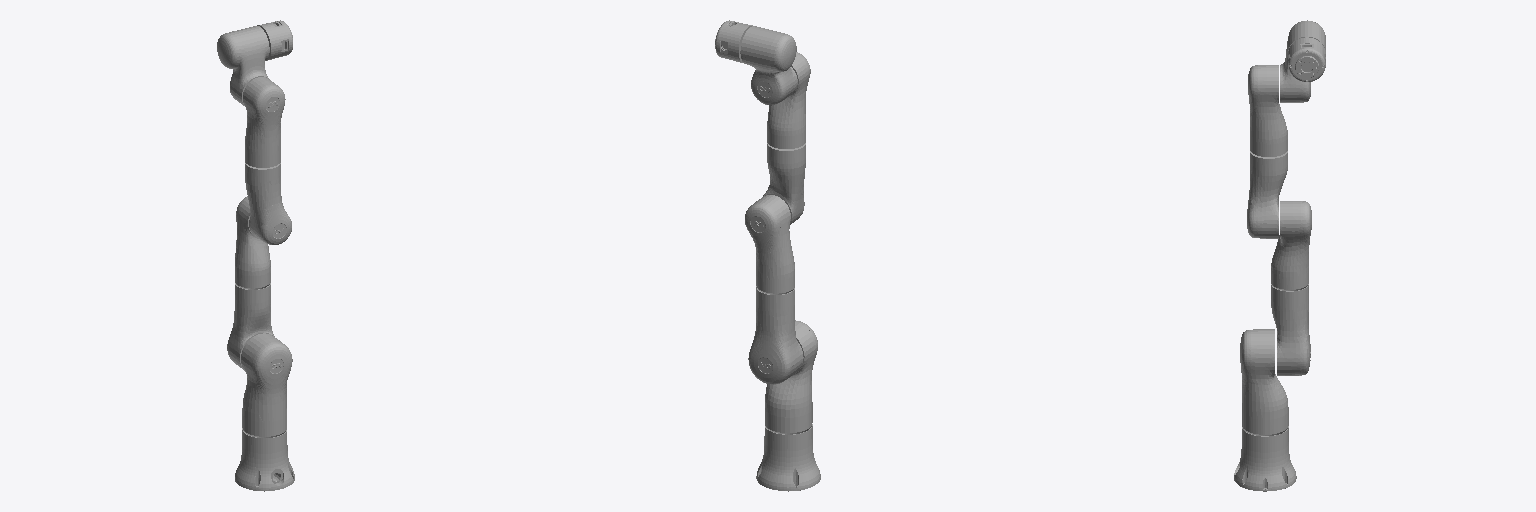
The robot description file, URDF, robot "right_robot":
<robot name="right_robot">

  <!-- material definition-->
  
  <material name = "robot_grey">
    <color rgba="0.7 0.7 0.7 1" />
  </material>

  <material name="gripper_black">
    <color rgba="0.1 0.1 0.1 1"/>
  </material>      
  
  <material name="gripper_white">
    <color rgba="0.9 0.9 0.9 1"/>
  </material>

  <material name="gripper_grey">
    <color rgba="0.792156862745098 0.819607843137255 0.933333333333333 1"/>
  </material>

  <!-- joints of right arm -->

  <joint name="joint1" type="revolute">
    <parent link="base_link"/>
    <child link="link1"/>
    <origin rpy="0 3.141592653589793 0" xyz="0 0 0.155"/>
    <axis xyz="0 0 1"/>
    <limit effort="123" lower="-2.7925" upper="2.7925" velocity="2.0944"/>
  </joint>

  <joint name="joint2" type="revolute">
    <parent link="link1"/>
    <child link="link2"/>
    <origin rpy="0 0 3.141592653589793" xyz="0.0 0.03 -0.210"/>
    <axis xyz="0 1 0"/>
    <limit effort="123" lower="-2.2689" upper="2.2689" velocity="2.0944"/>
  </joint>

  <joint name="joint3" type="revolute">
    <parent link="link2"/>
    <child link="link3"/>
    <origin rpy="0 0 3.141592653589793" xyz="0.0 -0.035 -0.205"/>
    <axis xyz="0 0 1"/>
    <limit effort="64" lower="-2.9671" upper="2.9671" velocity="2.4435"/>
  </joint>

  <joint name="joint4" type="revolute">
    <parent link="link3"/>
    <child link="link4"/>
    <origin rpy="0 0 0" xyz="-0.02 -0.03 -0.19"/>
    <axis xyz="0 1 0"/>
    <limit effort="64" lower="-1.8675" upper="2.6878" velocity="2.4435"/>
  </joint>

  <joint name="joint5" type="revolute">
    <parent link="link4"/>
    <child link="link5"/>
    <origin rpy="0 0 0" xyz="0.02 -0.025 -0.195"/>
    <axis xyz="0 0 1"/>
    <limit effort="39" lower="-2.9671" upper="2.9671" velocity="4.8869"/>
  </joint>

  <joint name="joint6" type="revolute">
    <parent link="link5"/>
    <child link="link6"/>
    <origin rpy="0 0 3.141592653589793" xyz="0.0 0.03 -0.19"/>
    <axis xyz="0 1 0"/>
    <limit effort="39" lower="-1.3963" upper="4.5379" velocity="4.8869"/>
  </joint>

  <joint name="joint7" type="revolute">
    <parent link="link6"/>
    <child link="link7"/>
    <origin rpy="0 -1.5707963267948966 0" xyz="0.055 -0.070 -0.11"/>
    <axis xyz="0 0 1"/>
    <limit effort="39" lower="-2.9671" upper="2.9671" velocity="4.8869"/>
  </joint>

  <joint name="link7_to_flange" type="fixed">
    <parent link="link7"/>
    <child link="flange"/>
    <origin rpy="3.141592653589793 0 0" xyz="0.0 0.0 -0.081"/>
  </joint>

  <!-- links of right arm -->

  <link name="base_link">
    <inertial>
      <mass value="3.653"/>
      <origin rpy="0 0 0" xyz="0.0002 0.0006 0.0874"/>
      <inertia ixx="0.0194" ixy="0.0000" ixz="0.0000" iyy="0.0196" iyz="-0.0001" izz="0.0088"/>
    </inertial>
    <visual>
      <origin rpy="0 0 3.141592653589793" xyz="0 0 0"/>
      <geometry>
        <mesh filename="meshes/flexiv_arm/visual/link0.obj"/>
      </geometry>
      <material name="robot_grey" />
    </visual>
    <collision>
      <origin rpy="0 0 3.141592653589793" xyz="0 0 0"/>
      <geometry>
        <mesh filename="meshes/flexiv_arm/collision/link0.stl"/>
      </geometry>
    </collision>
  </link>

  <link name="link1">
    <inertial>
      <mass value="3.673"/>
      <origin rpy="0 0 0" xyz="0.0000 0.0060 -0.1489"/>
      <inertia ixx="0.0276" ixy="0.0000" ixz="0.0000" iyy="0.0272" iyz="-0.0017" izz="0.0077"/>
    </inertial>
    <visual>
      <origin rpy="0 3.141592653589793 0" xyz="0 0 0"/>
      <geometry>
        <mesh filename="meshes/flexiv_arm/visual/link1.obj"/>
      </geometry>
      <material name="robot_grey" />
    </visual>
    <collision>
      <origin rpy="0 3.141592653589793 0" xyz="0 0 0"/>
      <geometry>
        <mesh filename="meshes/flexiv_arm/collision/link1.stl"/>
      </geometry>
    </collision>
  </link>

  <link name="link2">
    <inertial>
      <mass value="2.734"/>
      <origin rpy="0 0 0" xyz="0.0000 -0.0362 -0.0979"/>
      <inertia ixx="0.0234" ixy="0.0000" ixz="0.0000" iyy="0.0243" iyz="-0.0003" izz="0.0036"/>
    </inertial>
    <visual>
      <origin rpy="3.141592653589793 0 0" xyz="0 0 0"/>
      <geometry>
        <mesh filename="meshes/flexiv_arm/visual/link2.obj"/>
      </geometry>
      <material name="robot_grey" />
    </visual>
    <collision>
      <origin rpy="3.141592653589793 0 0" xyz="0 0 0"/>
      <geometry>
        <mesh filename="meshes/flexiv_arm/collision/link2.stl"/>
      </geometry>
    </collision>
  </link>

  <link name="link3">
    <inertial>
      <mass value="2.397"/>
      <origin rpy="0 0 0" xyz="-0.0117 -0.0028 -0.1334"/>
      <inertia ixx="0.0141" ixy="0.0001" ixz="0.0014" iyy="0.0137" iyz="0.0007" izz="0.0038"/>
    </inertial>
    <visual>
      <origin rpy="0 3.141592653589793 0" xyz="0 0 0"/>
      <geometry>
        <mesh filename="meshes/flexiv_arm/visual/link3r.obj"/>
      </geometry>
      <material name="robot_grey" />
    </visual>
    <collision>
      <origin rpy="0 3.141592653589793 0" xyz="0 0 0"/>
      <geometry>
        <mesh filename="meshes/flexiv_arm/collision/link3r.obj"/>
      </geometry>
    </collision>
  </link>

  <link name="link4">
    <inertial>
      <mass value="2.397"/>
      <origin rpy="0 0 0" xyz="0.0126 -0.0312 -0.1013"/>
      <inertia ixx="0.0184" ixy="0.0001" ixz="-0.0016" iyy="0.0188" iyz="-0.0012" izz="0.0030"/>
    </inertial>
    <visual>
      <origin rpy="3.141592653589793 0 0" xyz="0 0 0"/>
      <geometry>
        <mesh filename="meshes/flexiv_arm/visual/link4r.obj"/>
      </geometry>
      <material name="robot_grey" />
    </visual>
    <collision>
      <origin rpy="3.141592653589793 0 0" xyz="0 0 0"/>
      <geometry>
        <mesh filename="meshes/flexiv_arm/collision/link4r.obj"/>
      </geometry>
    </collision>
  </link>

  <link name="link5">
    <inertial>
      <mass value="2.363"/>
      <origin rpy="0 0 0" xyz="0.0000 0.0032 -0.1328"/>
      <inertia ixx="0.0140" ixy="0.0000" ixz="0.0000" iyy="0.0134" iyz="-0.0007" izz="0.0036"/>
    </inertial>
    <visual>
      <origin rpy="0 3.141592653589793 0" xyz="0 0 0"/>
      <geometry>
        <mesh filename="meshes/flexiv_arm/visual/link5.obj"/>
      </geometry>
      <material name="robot_grey" />
    </visual>
    <collision>
      <origin rpy="0 3.141592653589793 0" xyz="0 0 0"/>
      <geometry>
        <mesh filename="meshes/flexiv_arm/collision/link5.stl"/>
      </geometry>
    </collision>
  </link>

  <link name="link6">
    <inertial>
      <mass value="2.135"/>
      <origin rpy="0 0 0" xyz="0.0093 -0.0567 -0.0694"/>
      <inertia ixx="0.0083" ixy="-0.0003" ixz="-0.0008" iyy="0.0086" iyz="0.0018" izz="0.0036"/>
    </inertial>
    <visual>
      <origin rpy="0 3.141592653589793 0" xyz="0 0 0"/>
      <geometry>
        <mesh filename="meshes/flexiv_arm/visual/link6r.obj"/>
      </geometry>
      <material name="robot_grey" />
    </visual>
    <collision>
      <origin rpy="0 3.141592653589793 0" xyz="0 0 0"/>
      <geometry>
        <mesh filename="meshes/flexiv_arm/collision/link6r.obj"/>
      </geometry>
    </collision>
  </link>

  <link name="link7">
    <inertial>
      <mass value="0.793"/>
      <origin rpy="0 0 0" xyz="0.0000 0.0003 -0.0250"/>
      <inertia ixx="0.0009" ixy="0.0000" ixz="0.0000" iyy="0.0010" iyz="0.0000" izz="0.0009"/>
    </inertial>
    <visual>
      <origin rpy="3.141592653589793 0 0" xyz="0 0 0"/>
      <geometry>
        <mesh filename="meshes/flexiv_arm/visual/link7.obj"/>
      </geometry>
      <material name="robot_grey" />
    </visual>
    <collision>
      <origin rpy="3.141592653589793 0 0" xyz="0 0 0"/>
      <geometry>
        <mesh filename="meshes/flexiv_arm/collision/link7.stl"/>
      </geometry>
    </collision>
  </link>

  <link name="flange">
    <inertial>
      <mass value="0.0" />
      <origin rpy="0 0 0" xyz="0.0 0.0 0.0" />
      <inertia ixx="0.0" ixy="0.0" ixz="0.0" iyy="0.0" iyz="0.0" izz="0.0" />
    </inertial>
  </link>

  <!-- right arm to gripper -->

  <joint name="flange2gripper" type="fixed">
    <parent link="flange" />
    <child link="robotiq_2f85_base_link" />
    <origin rpy="0.0 0.0 -1.5707963267948966" xyz="0.0 0.0 0.0" />
  </joint>

  <!-- right gripper -->
  
  <link name="robotiq_2f85_base_link">
    <inertial>
      <origin xyz="0.00021987 -2.3546E-10 0.030163" rpy="0 0 0" />
      <mass value="0.30915" />
      <inertia ixx="0.00028972" ixy="-5.7879E-10" ixz="-1.8543E-06" iyy="0.00030737" iyz="1.682E-12" izz="0.00019914" />
    </inertial>
    <visual>
      <origin xyz="0 0 0" rpy="0 0 0" />
      <geometry>
        <mesh filename="meshes/gripper/visual/robotiq_2f85_base_link.stl" />
      </geometry>
      <material name="gripper_black" />
    </visual>
    <collision>
      <origin xyz="0 0 0" rpy="0 0 0" />
      <geometry>
        <mesh filename="meshes/gripper/collision/robotiq_2f85_base_link.stl" />
      </geometry>
    </collision>
  </link>

  <link name="left_outer_knuckle">
    <inertial>
      <origin xyz="0.0178331863169983 3.68915177224286E-11 0.0021442477325704" rpy="0 0 0" />
      <mass value="0.00684838849434396" />
      <inertia ixx="2.66832029033166E-07" ixy="1.66142314639824E-15" ixz="1.45945633322873E-07" iyy="1.3889233257419E-06" iyz="2.82951161241588E-15" izz="1.26603336914415E-06" />
    </inertial>
    <visual>
      <origin xyz="0 0 0" rpy="0 0 0" />
      <geometry>
        <mesh filename="meshes/gripper/visual/outer_knuckle.stl" />
      </geometry>
      <material name="gripper_black" />
    </visual>
    <collision>
      <origin xyz="0 0 0" rpy="0 0 0" />
      <geometry>
        <mesh filename="meshes/gripper/collision/outer_knuckle.stl" />
      </geometry>
    </collision>
  </link>

  <joint name="finger_joint" type="revolute">
    <origin xyz="0.0306011444260539 0 0.0627920162695395" rpy="0 0 0" />
    <parent link="robotiq_2f85_base_link" />
    <child link="left_outer_knuckle" />
    <axis xyz="0 -1 0" />
    <limit lower="0" upper="0.725" velocity="2.0" effort="1000" />
  </joint>

  <link name="left_outer_finger">
    <inertial>
      <origin xyz="0.00131451599174296 2.88942057994543E-15 0.0215404163180413" rpy="0 0 0" />
      <mass value="0.0273093985570947" />
      <inertia ixx="8.51629628283022E-06" ixy="2.58174336207405E-19" ixz="3.83829504344079E-07" iyy="6.9133328065108E-06" iyz="-7.58589926143789E-19" izz="2.25006832221981E-06" />
    </inertial>
    <visual>
      <origin xyz="0 0 0" rpy="0 0 0" />
      <geometry>
        <mesh filename="meshes/gripper/visual/outer_finger.stl" />
      </geometry>
      <material name="gripper_black" />
    </visual>
    <collision>
      <origin xyz="0 0 0" rpy="0 0 0" />
      <geometry>
        <mesh filename="meshes/gripper/collision/outer_finger.stl" />
      </geometry>
    </collision>
  </link>

  <joint name="left_outer_finger_joint" type="fixed">
    <origin xyz="0.0316910442266543 0 -0.00193396375724605" rpy="0 0 0" />
    <parent link="left_outer_knuckle" />
    <child link="left_outer_finger" />
    <axis xyz="0 -1 0" />
  </joint>

  <link name="left_inner_knuckle">
    <inertial>
      <origin xyz="0.017097546626628 -3.93808524389535E-10 0.0224918438201868" rpy="0 0 0" />
      <mass value="0.0110930853895903" />
      <inertia ixx="4.23392770691541E-06" ixy="5.748978936968E-15" ixz="1.78855677119788E-06" iyy="3.96548790524392E-06" iyz="1.05464666369669E-14" izz="3.24068002883007E-06" />
    </inertial>
    <visual>
      <origin xyz="0 0 0" rpy="0 0 0" />
      <geometry>
        <mesh filename="meshes/gripper/visual/inner_knuckle.stl" />
      </geometry>
      <material name="gripper_black" />
    </visual>
    <collision>
      <origin xyz="0 0 0" rpy="0 0 0" />
      <geometry>
        <mesh filename="meshes/gripper/collision/inner_knuckle.stl" />
      </geometry>
    </collision>
  </link>

  <joint name="left_inner_knuckle_joint" type="revolute">
    <origin xyz="0.0127000000001501 0 0.0693074999999639" rpy="0 0 0" />
    <parent link="robotiq_2f85_base_link" />
    <child link="left_inner_knuckle" />
    <axis xyz="0 -1 0" />
    <limit lower="0" upper="0.8757" velocity="2.0" effort="1000" />
    <mimic joint="finger_joint" multiplier="1" offset="0" />
  </joint>

  <link name="left_inner_finger">
    <inertial>
      <origin xyz="0.0060275613594574 -6.29183141465421E-15 0.00669925693133241" rpy="0 0 0" />
      <mass value="0.00724255346165745" />
      <inertia ixx="1.47824274053603E-06" ixy="-3.94884463570303E-19" ixz="-3.45268847648622E-07" iyy="1.70064480838395E-06" iyz="3.5059838910097E-19" izz="4.77151336838364E-07" />
    </inertial>
    <visual>
      <origin xyz="0 0 0" rpy="0 0 0" />
      <geometry>
        <mesh filename="meshes/gripper/visual/inner_finger.stl" />
      </geometry>
      <material name="gripper_black" />
    </visual>
    <collision>
      <origin xyz="0 0 0" rpy="0 0 0" />
      <geometry>
        <mesh filename="meshes/gripper/collision/inner_finger.stl" />
      </geometry>
    </collision>
  </link>

  <joint name="left_inner_finger_joint" type="revolute">
    <origin xyz="0.034585310861294 0 0.0454970193817975" rpy="0 0 0" />
    <parent link="left_inner_knuckle" />
    <child link="left_inner_finger" />
    <axis xyz="0 -1 0" />
    <limit lower="0" upper="0.8757" velocity="2.0" effort="1000" />
    <mimic joint="finger_joint" multiplier="-1" offset="0" />
  </joint>

  <link name="right_inner_knuckle">
    <inertial>
      <origin xyz="0.0168606186773776 3.93808471820465E-10 0.0226699950793434" rpy="0 0 0" />
      <mass value="0.0110930853895903" />
      <inertia ixx="4.27134775939882E-06" ixy="-8.53568456728898E-15" ixz="1.77774229944246E-06" iyy="3.96548790524392E-06" iyz="-8.45108024914164E-15" izz="3.20325997634666E-06" />
    </inertial>
    <visual>
      <origin xyz="0 0 0" rpy="0 0 0" />
      <geometry>
        <mesh filename="meshes/gripper/visual/inner_knuckle.stl" />
      </geometry>
      <material name="gripper_black" />
    </visual>
    <collision>
      <origin xyz="0 0 0" rpy="0 0 0" />
      <geometry>
        <mesh filename="meshes/gripper/collision/inner_knuckle.stl" />
      </geometry>
    </collision>
  </link>

  <joint name="right_inner_knuckle_joint" type="revolute">
    <origin xyz="-0.0126999999998499 0 0.0693075000000361" rpy="0 0 3.14159265358979" />
    <parent link="robotiq_2f85_base_link" />
    <child link="right_inner_knuckle" />
    <axis xyz="0 1 0" />
    <limit lower="0" upper="0.8757" velocity="2.0" effort="1000" />
    <mimic joint="finger_joint" multiplier="-1" offset="0" />
  </joint>

  <link name="right_inner_finger">
    <inertial>
      <origin xyz="0.00602756228812038 -6.47284509480176E-15 0.00669925609578108" rpy="0 0 0" />
      <mass value="0.00724255346165744" />
      <inertia ixx="1.47824283625957E-06" ixy="-3.95952064019123E-19" ixz="-3.45268708875543E-07" iyy="1.70064480838394E-06" iyz="3.55286507960029E-19" izz="4.77151241114822E-07" />
    </inertial>
    <visual>
      <origin xyz="0 0 0" rpy="0 0 0" />
      <geometry>
        <mesh filename="meshes/gripper/visual/inner_finger.stl" />
      </geometry>
      <material name="gripper_black" />
    </visual>
    <collision>
      <origin xyz="0 0 0" rpy="0 0 0" />
      <geometry>
        <mesh filename="meshes/gripper/collision/inner_finger.stl" />
      </geometry>
    </collision>
  </link>

  <joint name="right_inner_finger_joint" type="revolute">
    <origin xyz="0.0341060475457406 0 0.0458573878541688" rpy="0 0 0" />
    <parent link="right_inner_knuckle" />
    <child link="right_inner_finger" />
    <axis xyz="0 1 0" />
    <limit lower="0" upper="0.8757" velocity="2.0" effort="1000" />
    <mimic joint="finger_joint" multiplier="1" offset="0" />
  </joint>

  <link name="right_outer_knuckle">
    <inertial>
      <origin xyz="0.0178097074051638 3.60493211424024E-11 0.00233123458346721" rpy="0 0 0" />
      <mass value="0.00684838849401352" />
      <inertia ixx="2.70004361573169E-07" ixy="1.59579467624491E-15" ixz="1.56396493788199E-07" iyy="1.38892332558312E-06" iyz="2.82357800318817E-15" izz="1.26286103637978E-06" />
    </inertial>
    <visual>
      <origin xyz="0 0 0" rpy="0 0 0" />
      <geometry>
        <mesh filename="meshes/gripper/visual/outer_knuckle.stl" />
      </geometry>
      <material name="gripper_black" />
    </visual>
    <collision>
      <origin xyz="0 0 0" rpy="0 0 0" />
      <geometry>
        <mesh filename="meshes/gripper/collision/outer_knuckle.stl" />
      </geometry>
    </collision>
  </link>

  <joint name="right_outer_knuckle_joint" type="revolute">
    <origin xyz="-0.0306011444258893 0 0.0627920162695395" rpy="0 0 3.14159265358979" />
    <parent link="robotiq_2f85_base_link" />
    <child link="right_outer_knuckle" />
    <axis xyz="0 1 0" />
    <limit lower="0" upper="0.8757" velocity="2.0" effort="1000" />
    <mimic joint="finger_joint" multiplier="-1" offset="0" />
  </joint>

  <link name="right_outer_finger">
    <inertial>
      <origin xyz="0.00108844269639009 -2.611488350845E-15 0.0215530225245502" rpy="0 0 0" />
      <mass value="0.0273093985570947" />
      <inertia ixx="8.52366028592721E-06" ixy="3.41683380899422E-19" ixz="3.18003675694284E-07" iyy="6.91333280651081E-06" iyz="7.37726682706417E-19" izz="2.24270431912283E-06" />
    </inertial>
    <visual>
      <origin xyz="0 0 0" rpy="0 0 0" />
      <geometry>
        <mesh filename="meshes/gripper/visual/outer_finger.stl" />
      </geometry>
      <material name="gripper_black" />
    </visual>
    <collision>
      <origin xyz="0 0 0" rpy="0 0 0" />
      <geometry>
        <mesh filename="meshes/gripper/collision/outer_finger.stl" />
      </geometry>
    </collision>
  </link>

  <joint name="right_outer_finger_joint" type="fixed">
    <origin xyz="0.0317095909367246 0 -0.0016013564954687" rpy="0 0 0" />
    <parent link="right_outer_knuckle" />
    <child link="right_outer_finger" />
    <axis xyz="0 1 0" />
  </joint>

</robot>

--- Render facts (derived) ---
Views: 3 orthographic renders of the robot side by side, from view 1: azimuth 30°, elevation 25°; view 2: azimuth 150°, elevation 25°; view 3: azimuth 270°, elevation 25°.
Robot: right_robot — 18 links, 17 joints (13 revolute, 4 fixed); root link base_link; default pose: every joint at zero.
Links seen in each view (by area): view 1: link1, link5, base_link, link4, link6, link2, link3, link7; view 2: link2, link3, link6, link1, base_link, link5, link4, link7; view 3: link1, link2, link5, base_link, link3, link4, link6, link7.
Boxes of the visible links, left/top/right/bottom form: link1: left=241, top=333, right=292, bottom=436; link5: left=243, top=77, right=285, bottom=167; base_link: left=235, top=428, right=294, bottom=491; link4: left=245, top=163, right=291, bottom=244; link6: left=217, top=26, right=269, bottom=105; link2: left=227, top=283, right=274, bottom=370; link3: left=235, top=196, right=270, bottom=288; link7: left=257, top=20, right=292, bottom=60; link2: left=748, top=286, right=803, bottom=384; link3: left=745, top=195, right=794, bottom=293; link6: left=740, top=26, right=797, bottom=104; link1: left=765, top=320, right=817, bottom=432; base_link: left=756, top=424, right=820, bottom=491; link5: left=767, top=52, right=810, bottom=148; link4: left=763, top=143, right=805, bottom=224; link7: left=715, top=20, right=752, bottom=62; link1: left=1240, top=329, right=1288, bottom=434; link2: left=1271, top=284, right=1310, bottom=375; link5: left=1248, top=65, right=1287, bottom=156; base_link: left=1234, top=426, right=1296, bottom=491; link3: left=1271, top=201, right=1311, bottom=289; link4: left=1247, top=151, right=1287, bottom=238; link6: left=1280, top=20, right=1325, bottom=102; link7: left=1288, top=37, right=1325, bottom=81.
Bounding box of the posed robot: 0.2185 × 0.2424 × 1.3 m (x, y, z).
8 mesh visuals loaded from 13 distinct referenced files (8 OBJ); not drawn: 9 (reference not matched to a file when rendering).